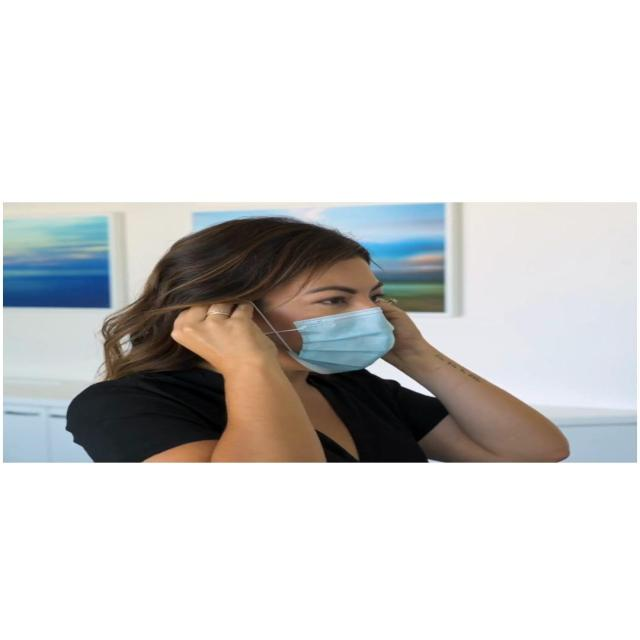Mask: (263, 248, 395, 373)
